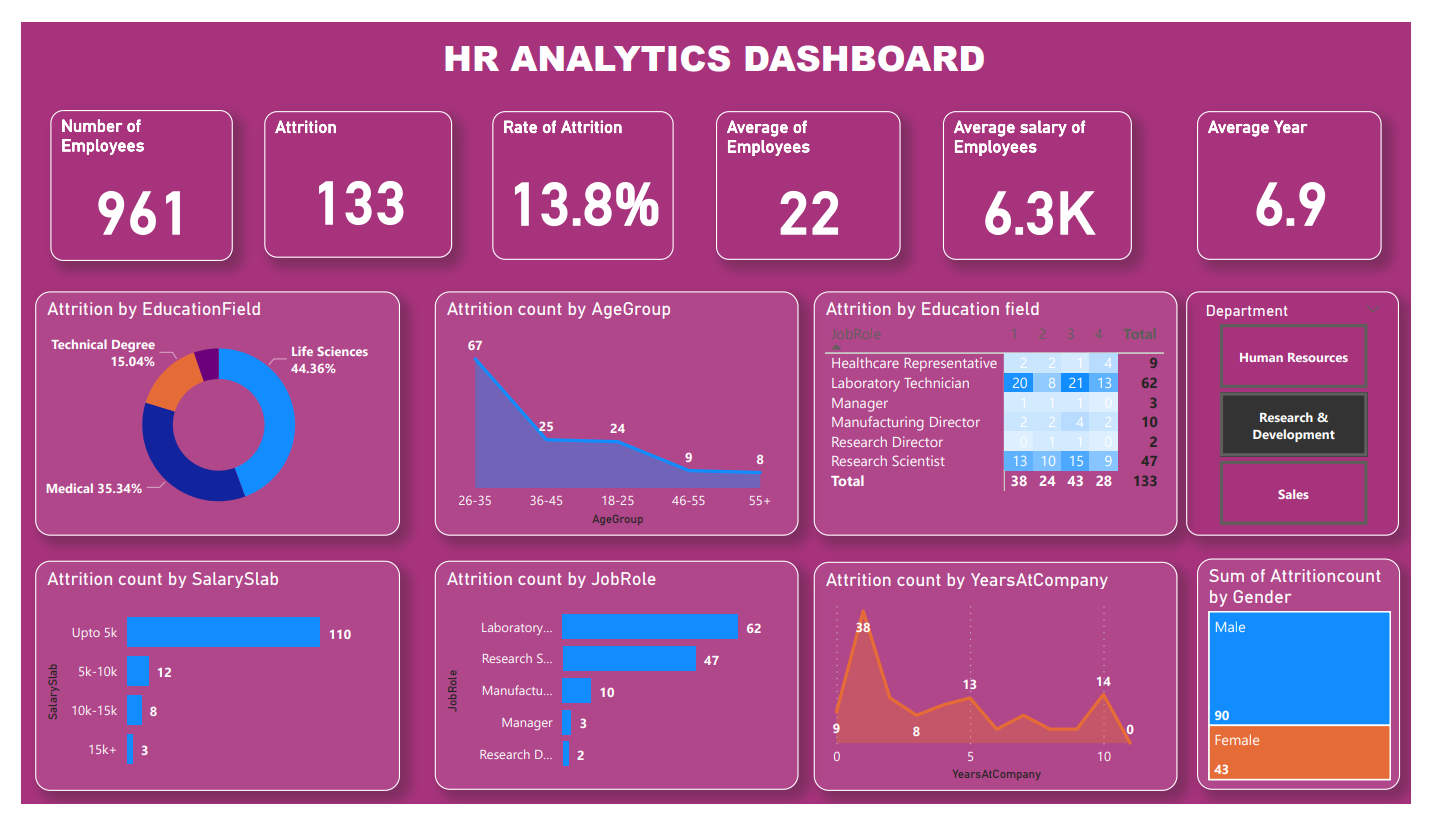

Layout of this report page (visuals, bound fields, positions):
{"tool":"powerbi","page":{"name":"Page 1","canvas":[1280,720],"ordinal":0},"visuals":[{"type":"card","title":"Number of Employees ","fields":{"Values":["CountNonNull(HR_Analytics.EmpID)"]},"box":[27.2,81.5,167.9,138.3],"z":0},{"type":"card","title":"      Attrition","fields":{"Values":["Sum(HR_Analytics.Attritioncount)"]},"box":[224.3,82,172.5,135.1],"z":1000},{"type":"card","title":"Rate of Attrition","fields":{"Values":["HR_Analytics.Attritionrate"]},"box":[434.2,82,166.4,137.5],"z":2000},{"type":"card","title":"Average of Employees ","fields":{"Values":["HR_Analytics.Count of Age average per Age"]},"box":[640.4,82,170.1,137.5],"z":3000},{"type":"card","title":"Average salary of Employees ","fields":{"Values":["Avg(HR_Analytics.MonthlyIncome)"]},"box":[849,82,173.7,137.5],"z":4000},{"type":"card","title":"Average Year","fields":{"Values":["Avg(HR_Analytics.YearsAtCompany)"]},"box":[1083,82,170.1,137.5],"z":5000},{"type":"donutChart","title":"Attrition by EducationField","fields":{"Category":["HR_Analytics.EducationField"],"Y":["Sum(HR_Analytics.Attritioncount)"]},"box":[13.3,248.4,335.3,224.3],"z":6000},{"type":"areaChart","title":" Attrition count by AgeGroup","fields":{"Category":["HR_Analytics.AgeGroup"],"Y":["Sum(HR_Analytics.Attritioncount)"]},"box":[381.1,248.4,335.3,224.3],"z":7000},{"type":"pivotTable","title":"Attrition by Education field ","fields":{"Rows":["HR_Analytics.JobRole"],"Columns":["HR_Analytics.JobSatisfaction"],"Values":["Sum(HR_Analytics.Attritioncount)"]},"box":[729.6,248.4,335.3,224.3],"z":8000},{"type":"barChart","title":" Attrition count by SalarySlab","fields":{"Category":["HR_Analytics.SalarySlab"],"Y":["Sum(HR_Analytics.Attritioncount)"]},"box":[13.3,495.7,335.3,212.3],"z":9000},{"type":"barChart","title":"Attrition count by JobRole","fields":{"Category":["HR_Analytics.JobRole"],"Y":["Sum(HR_Analytics.Attritioncount)"]},"box":[381.1,495.7,335.3,211.1],"z":10000},{"type":"areaChart","title":" Attrition count by YearsAtCompany","fields":{"Category":["HR_Analytics.YearsAtCompany"],"Y":["Sum(HR_Analytics.Attritioncount)"]},"box":[729.6,496.9,335.3,211.1],"z":11000},{"type":"treemap","fields":{"Group":["HR_Analytics.Gender"],"Values":["Sum(HR_Analytics.Attritioncount)"]},"box":[1083,494.5,186.9,212.3],"z":12000},{"type":"slicer","fields":{"Values":["HR_Analytics.Department"]},"box":[1072.8,248.1,196.3,224.7],"z":13000},{"type":"textbox","box":[367.8,0,640.4,73.6],"z":14000}]}

Visuals, with their boxes in screenshot pixels (x1, y1, x2, y2), scaled from the page's 1280x720 canvas onto the 1434x825 screenshot:
"Number of Employees " card: crop(30, 93, 219, 252)
"      Attrition" card: crop(251, 94, 445, 249)
"Rate of Attrition" card: crop(486, 94, 673, 252)
"Average of Employees " card: crop(717, 94, 908, 252)
"Average salary of Employees " card: crop(951, 94, 1146, 252)
"Average Year" card: crop(1213, 94, 1404, 252)
"Attrition by EducationField" donutChart: crop(15, 285, 391, 542)
" Attrition count by AgeGroup" areaChart: crop(427, 285, 803, 542)
"Attrition by Education field " pivotTable: crop(817, 285, 1193, 542)
" Attrition count by SalarySlab" barChart: crop(15, 568, 391, 811)
"Attrition count by JobRole" barChart: crop(427, 568, 803, 810)
" Attrition count by YearsAtCompany" areaChart: crop(817, 569, 1193, 811)
treemap - HR_Analytics.Gender x Sum(HR_Analytics.Attritioncount): crop(1213, 567, 1423, 810)
slicer - HR_Analytics.Department: crop(1202, 284, 1422, 542)
textbox: crop(412, 0, 1129, 84)
